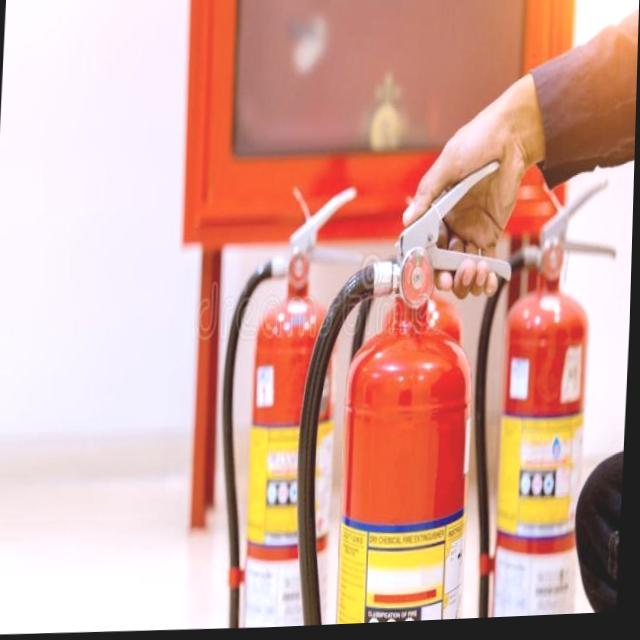FireExtinguisher: (287, 153, 521, 629), (465, 174, 626, 623), (208, 179, 360, 632)
